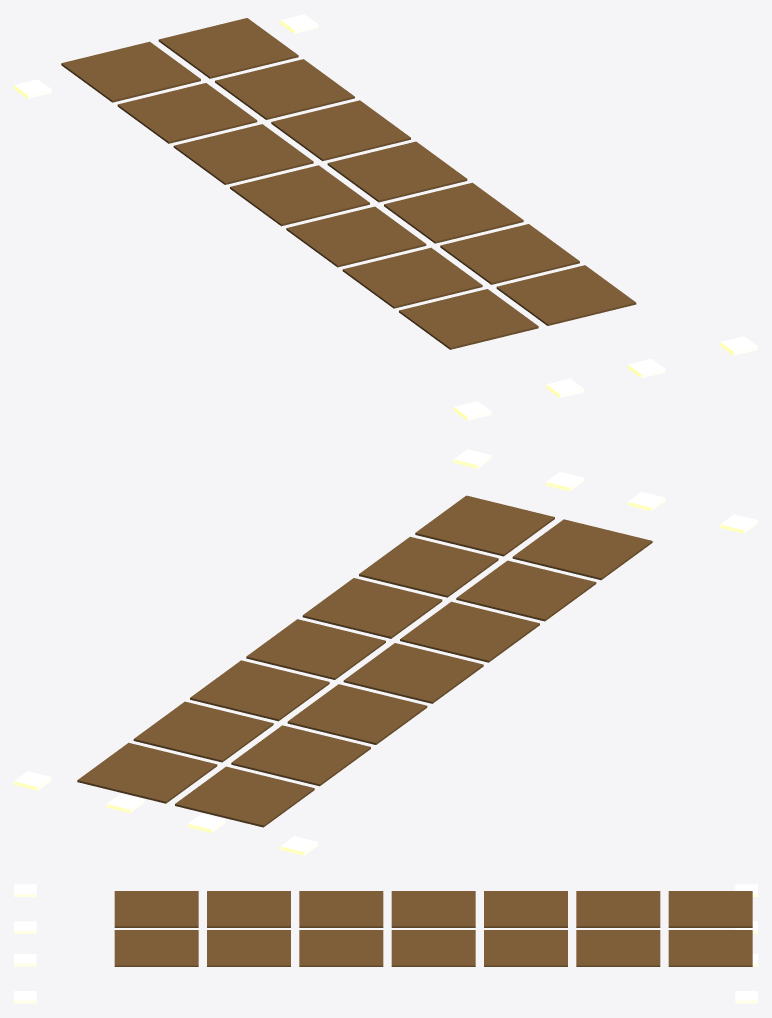
Rendered from lights2.gltf.
The picture shows the model from 3 angles, top to bottom: view 1: azimuth 30°, elevation 25°; view 2: azimuth 150°, elevation 25°; view 3: azimuth 270°, elevation 25°; orthographic projection. The views are drawn at different scales.
Visible parts, largest first — view 1: Plane.002; view 2: Plane.002; view 3: Plane.002.
Part boxes in pixels (box(x1,y1,x2,y2)): Plane.002: box(14, 14, 757, 420); Plane.002: box(14, 449, 757, 855); Plane.002: box(14, 884, 757, 1003).
Bounding box in the file's own units: 1.47 × 0.0821 × 3.96.
